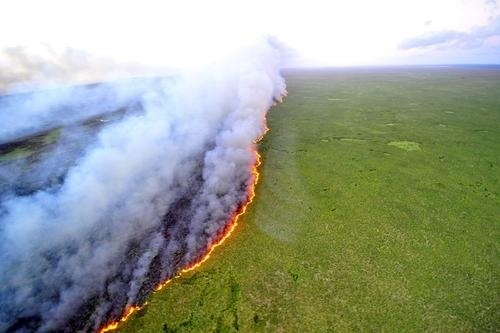fire: (99, 78, 333, 328)
